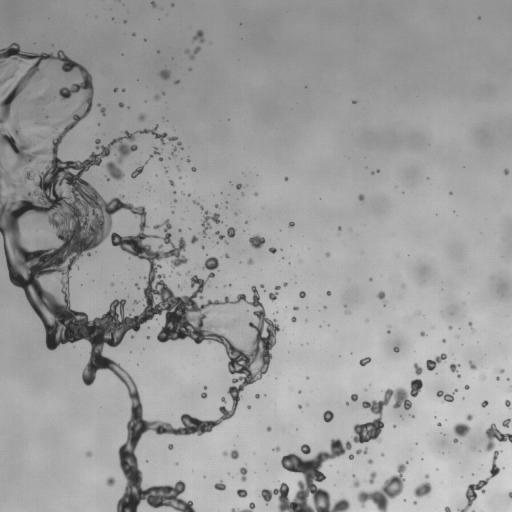droplet: (260, 438, 351, 511), (201, 211, 221, 236), (453, 422, 470, 442), (436, 388, 457, 402), (413, 482, 432, 497), (249, 235, 265, 249), (192, 30, 204, 42), (377, 291, 386, 306), (323, 410, 333, 422), (239, 467, 247, 481), (359, 357, 371, 366), (214, 481, 226, 490), (300, 444, 310, 454), (413, 363, 422, 374), (160, 70, 170, 79), (449, 364, 459, 373), (229, 450, 238, 459), (106, 477, 115, 486), (227, 227, 235, 237), (237, 489, 247, 497), (502, 418, 510, 427), (37, 95, 48, 101), (0, 171, 8, 179), (468, 361, 476, 369), (350, 394, 358, 401), (190, 236, 197, 243), (481, 400, 488, 407), (269, 247, 276, 253), (299, 291, 305, 298), (505, 400, 511, 407), (353, 480, 359, 487), (100, 107, 105, 115), (224, 323, 232, 328), (358, 194, 364, 200), (247, 258, 253, 264), (466, 414, 472, 420), (201, 391, 206, 398), (444, 506, 451, 511), (138, 115, 144, 120), (118, 102, 123, 107), (169, 180, 174, 185), (236, 184, 241, 189), (289, 222, 294, 227), (291, 317, 296, 322), (420, 331, 425, 336), (394, 347, 399, 352), (168, 444, 173, 449), (86, 451, 91, 456), (348, 454, 353, 459), (151, 1, 155, 7), (468, 322, 472, 328), (274, 447, 280, 451), (154, 95, 159, 99), (177, 141, 181, 146), (504, 169, 508, 174), (135, 283, 139, 288), (326, 291, 331, 295), (293, 306, 298, 310), (499, 369, 504, 373), (221, 397, 225, 402), (192, 167, 196, 171), (325, 252, 329, 256), (225, 254, 229, 258), (186, 271, 190, 275), (283, 282, 287, 286), (134, 300, 138, 304), (481, 375, 485, 379), (465, 385, 469, 389), (255, 394, 259, 398), (437, 422, 441, 426), (267, 427, 271, 431), (223, 452, 227, 456), (368, 459, 372, 463), (185, 50, 189, 53), (113, 88, 117, 91), (159, 157, 162, 161), (232, 320, 235, 324), (448, 326, 452, 329), (247, 405, 251, 408), (175, 80, 178, 83), (353, 100, 356, 103), (254, 192, 257, 195), (215, 204, 218, 207), (346, 311, 349, 314), (442, 339, 445, 342), (457, 374, 460, 377), (298, 405, 301, 408), (425, 474, 428, 477), (413, 501, 416, 504), (132, 33, 135, 35), (174, 199, 176, 202), (338, 227, 341, 229), (261, 284, 263, 287), (323, 306, 326, 308), (387, 330, 389, 333), (496, 377, 499, 379), (204, 386, 206, 389), (411, 415, 414, 417), (98, 104, 100, 106), (187, 159, 189, 161), (177, 167, 179, 169), (377, 170, 379, 172), (285, 178, 287, 180), (225, 241, 227, 243), (202, 246, 204, 248), (370, 278, 372, 280), (246, 310, 248, 312), (346, 402, 348, 404)
ligament: (0, 43, 280, 511), (458, 423, 511, 511), (352, 378, 422, 443), (357, 463, 406, 511), (426, 353, 446, 370), (131, 160, 148, 178), (231, 502, 255, 511), (269, 286, 279, 301), (190, 46, 200, 59), (149, 147, 159, 158), (368, 471, 376, 484), (193, 201, 203, 209), (215, 231, 224, 239), (356, 448, 367, 454), (506, 491, 511, 501), (171, 146, 176, 155), (0, 78, 7, 84), (0, 162, 1, 168)
